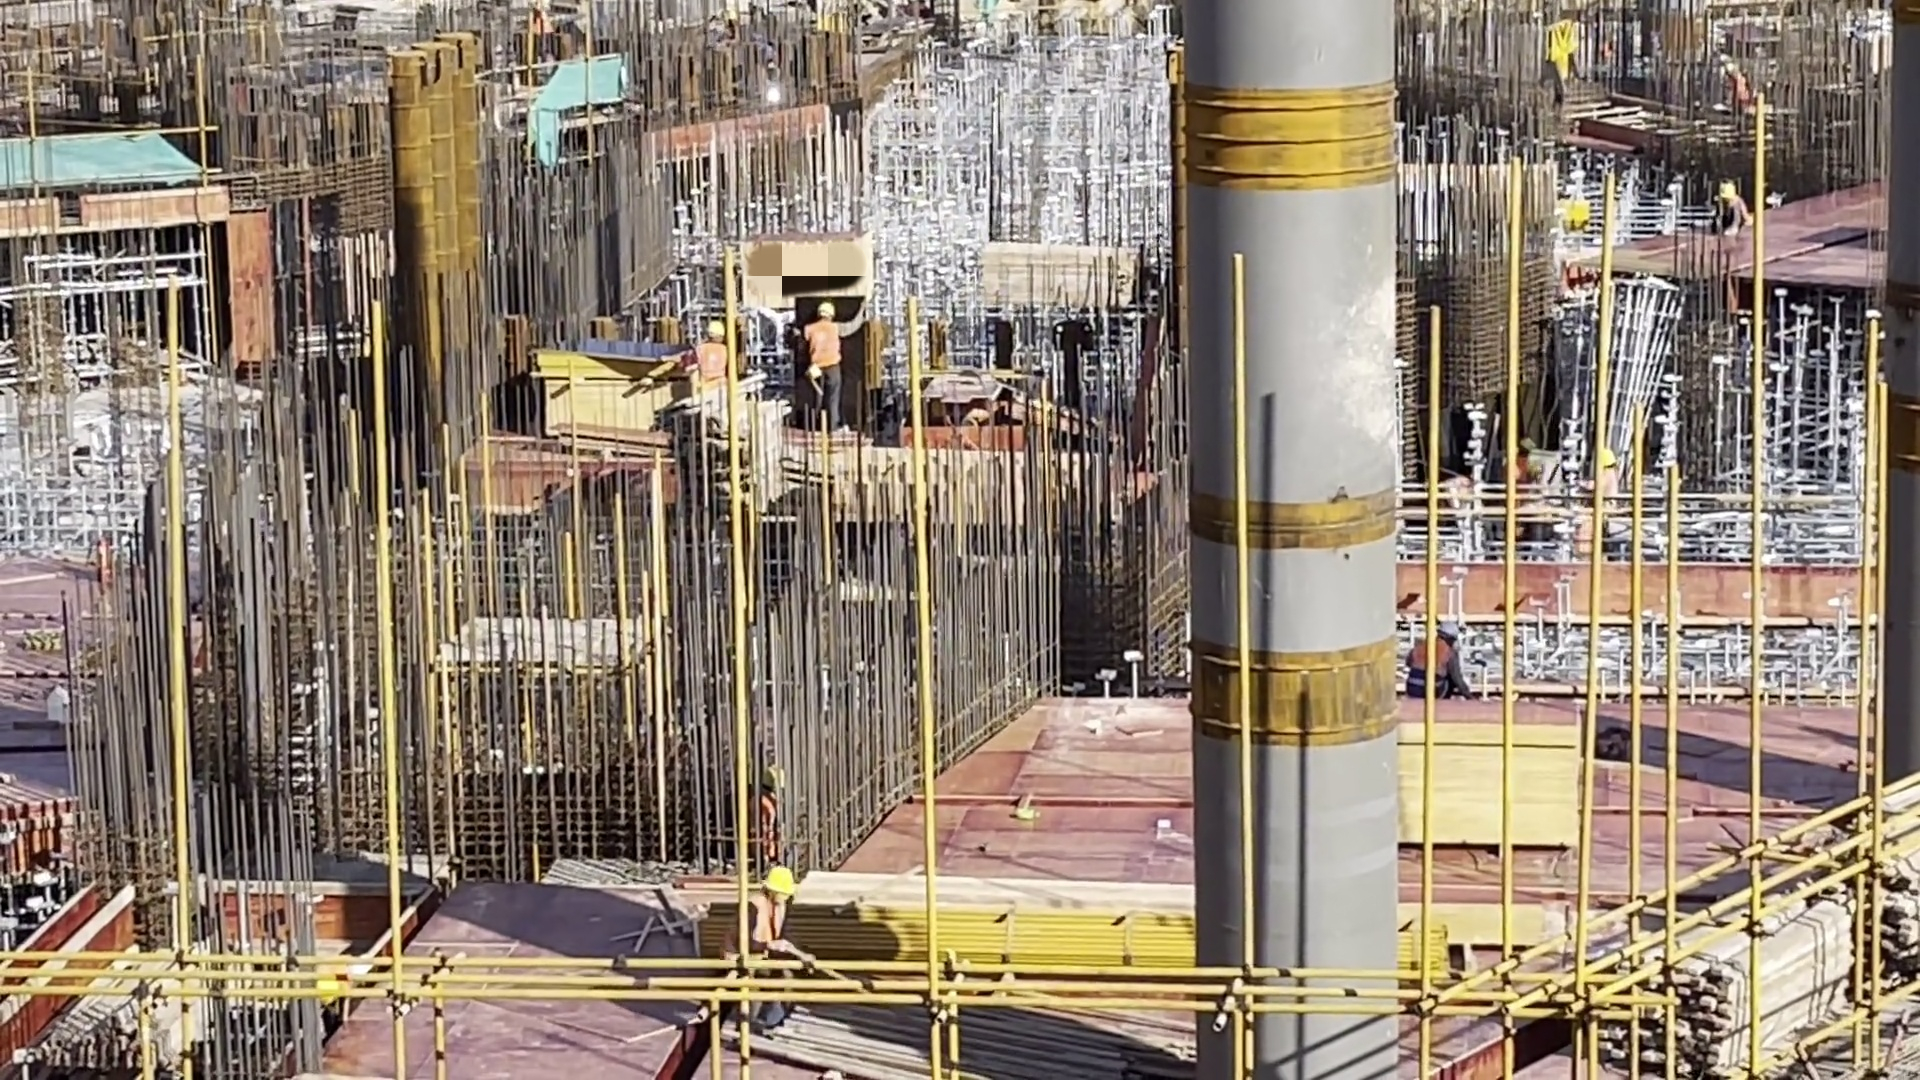person: (786, 297, 885, 433), (729, 849, 793, 1012), (670, 311, 728, 379)
vest: (808, 312, 847, 380), (698, 334, 729, 379)
